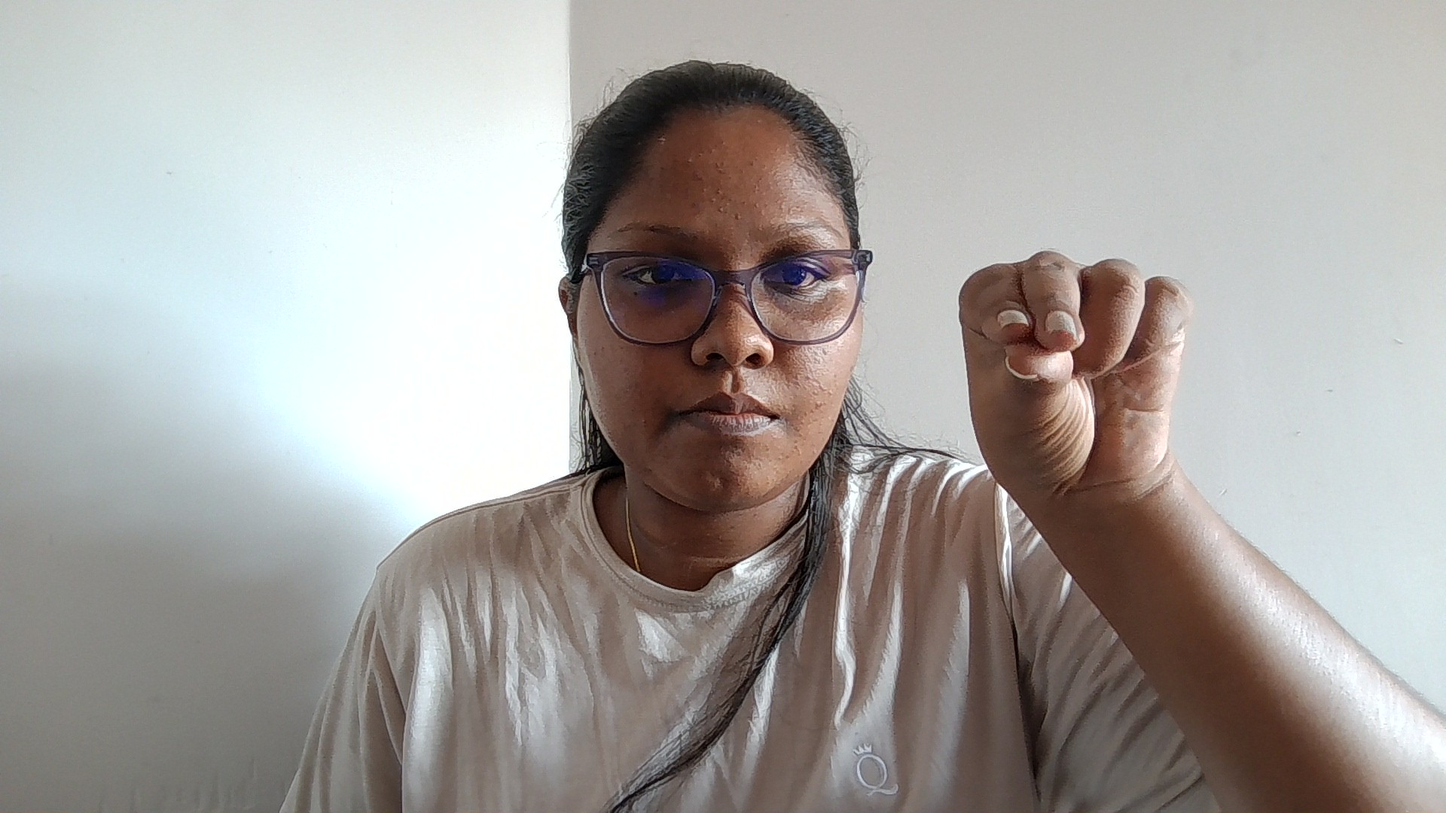No: (941, 225, 1283, 630)
